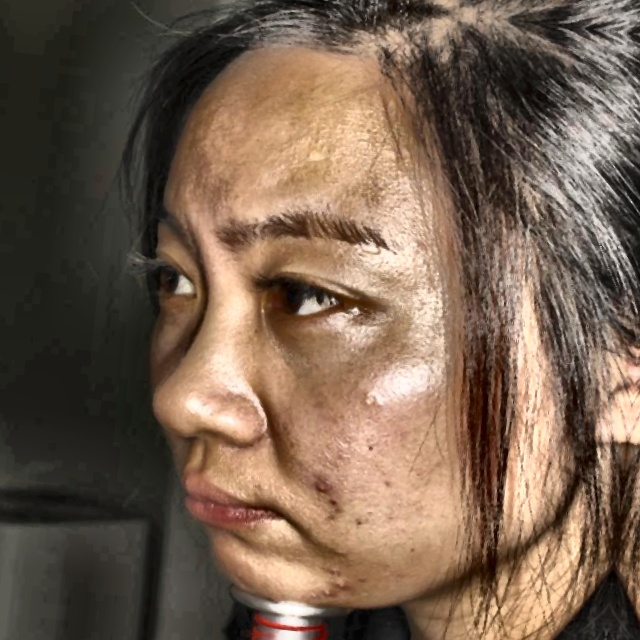comedone: (316, 573, 358, 607), (303, 473, 344, 507)
